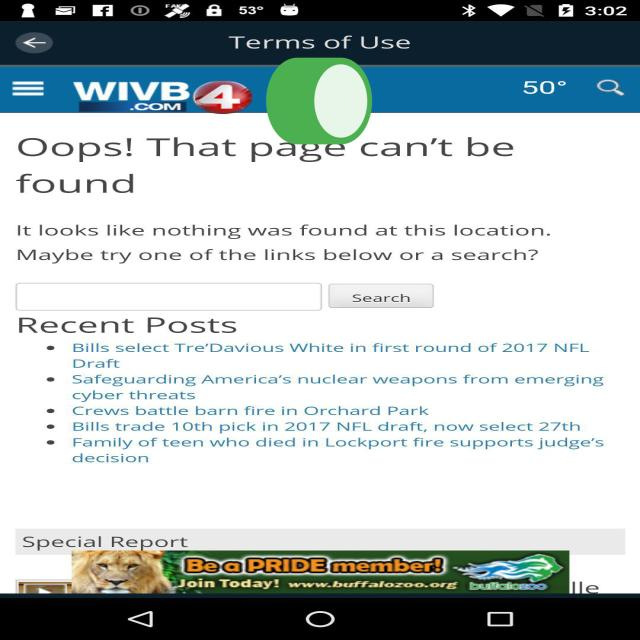social proof: (261, 24, 377, 184)
